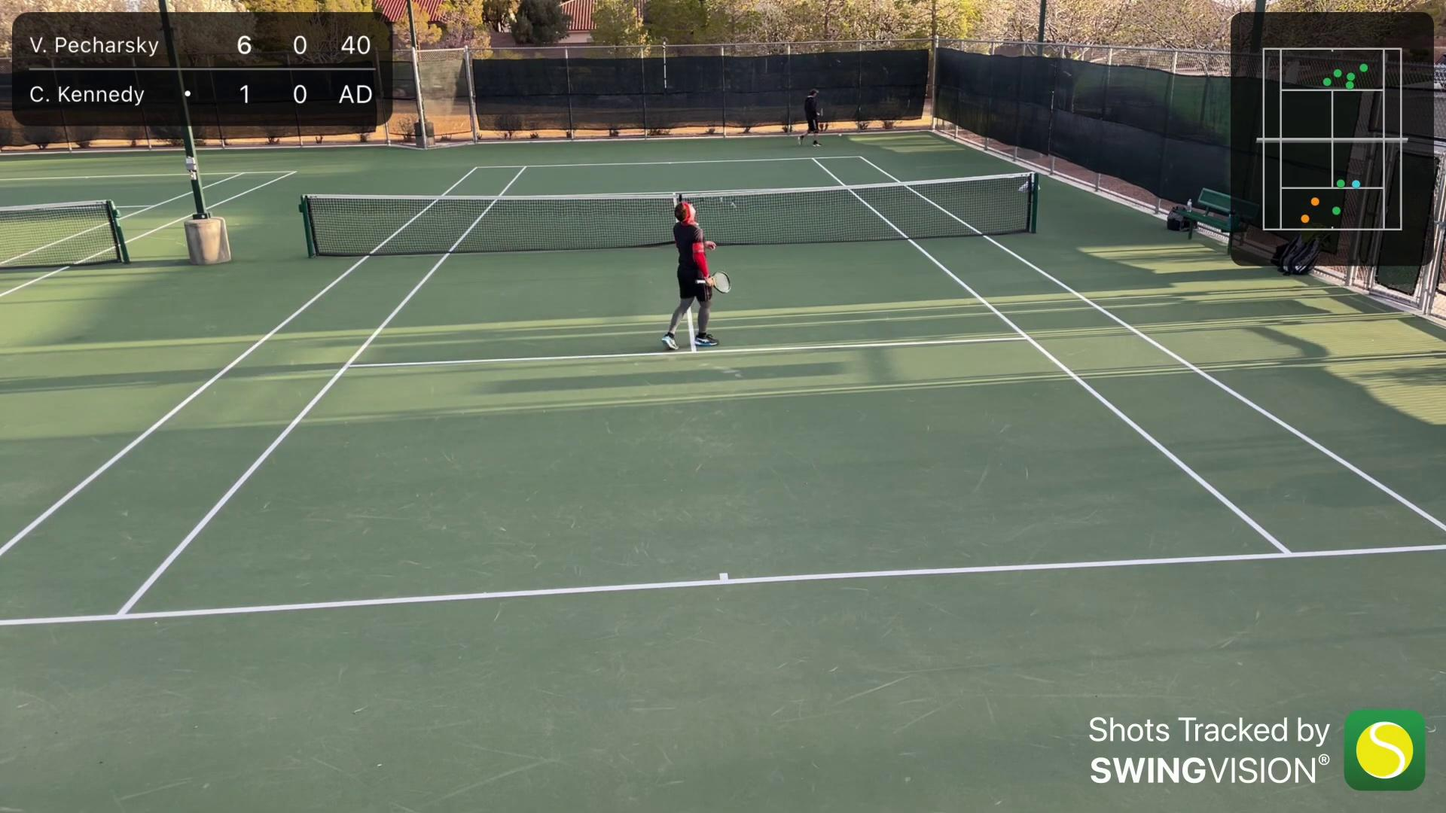ball: (836, 133, 843, 138)
